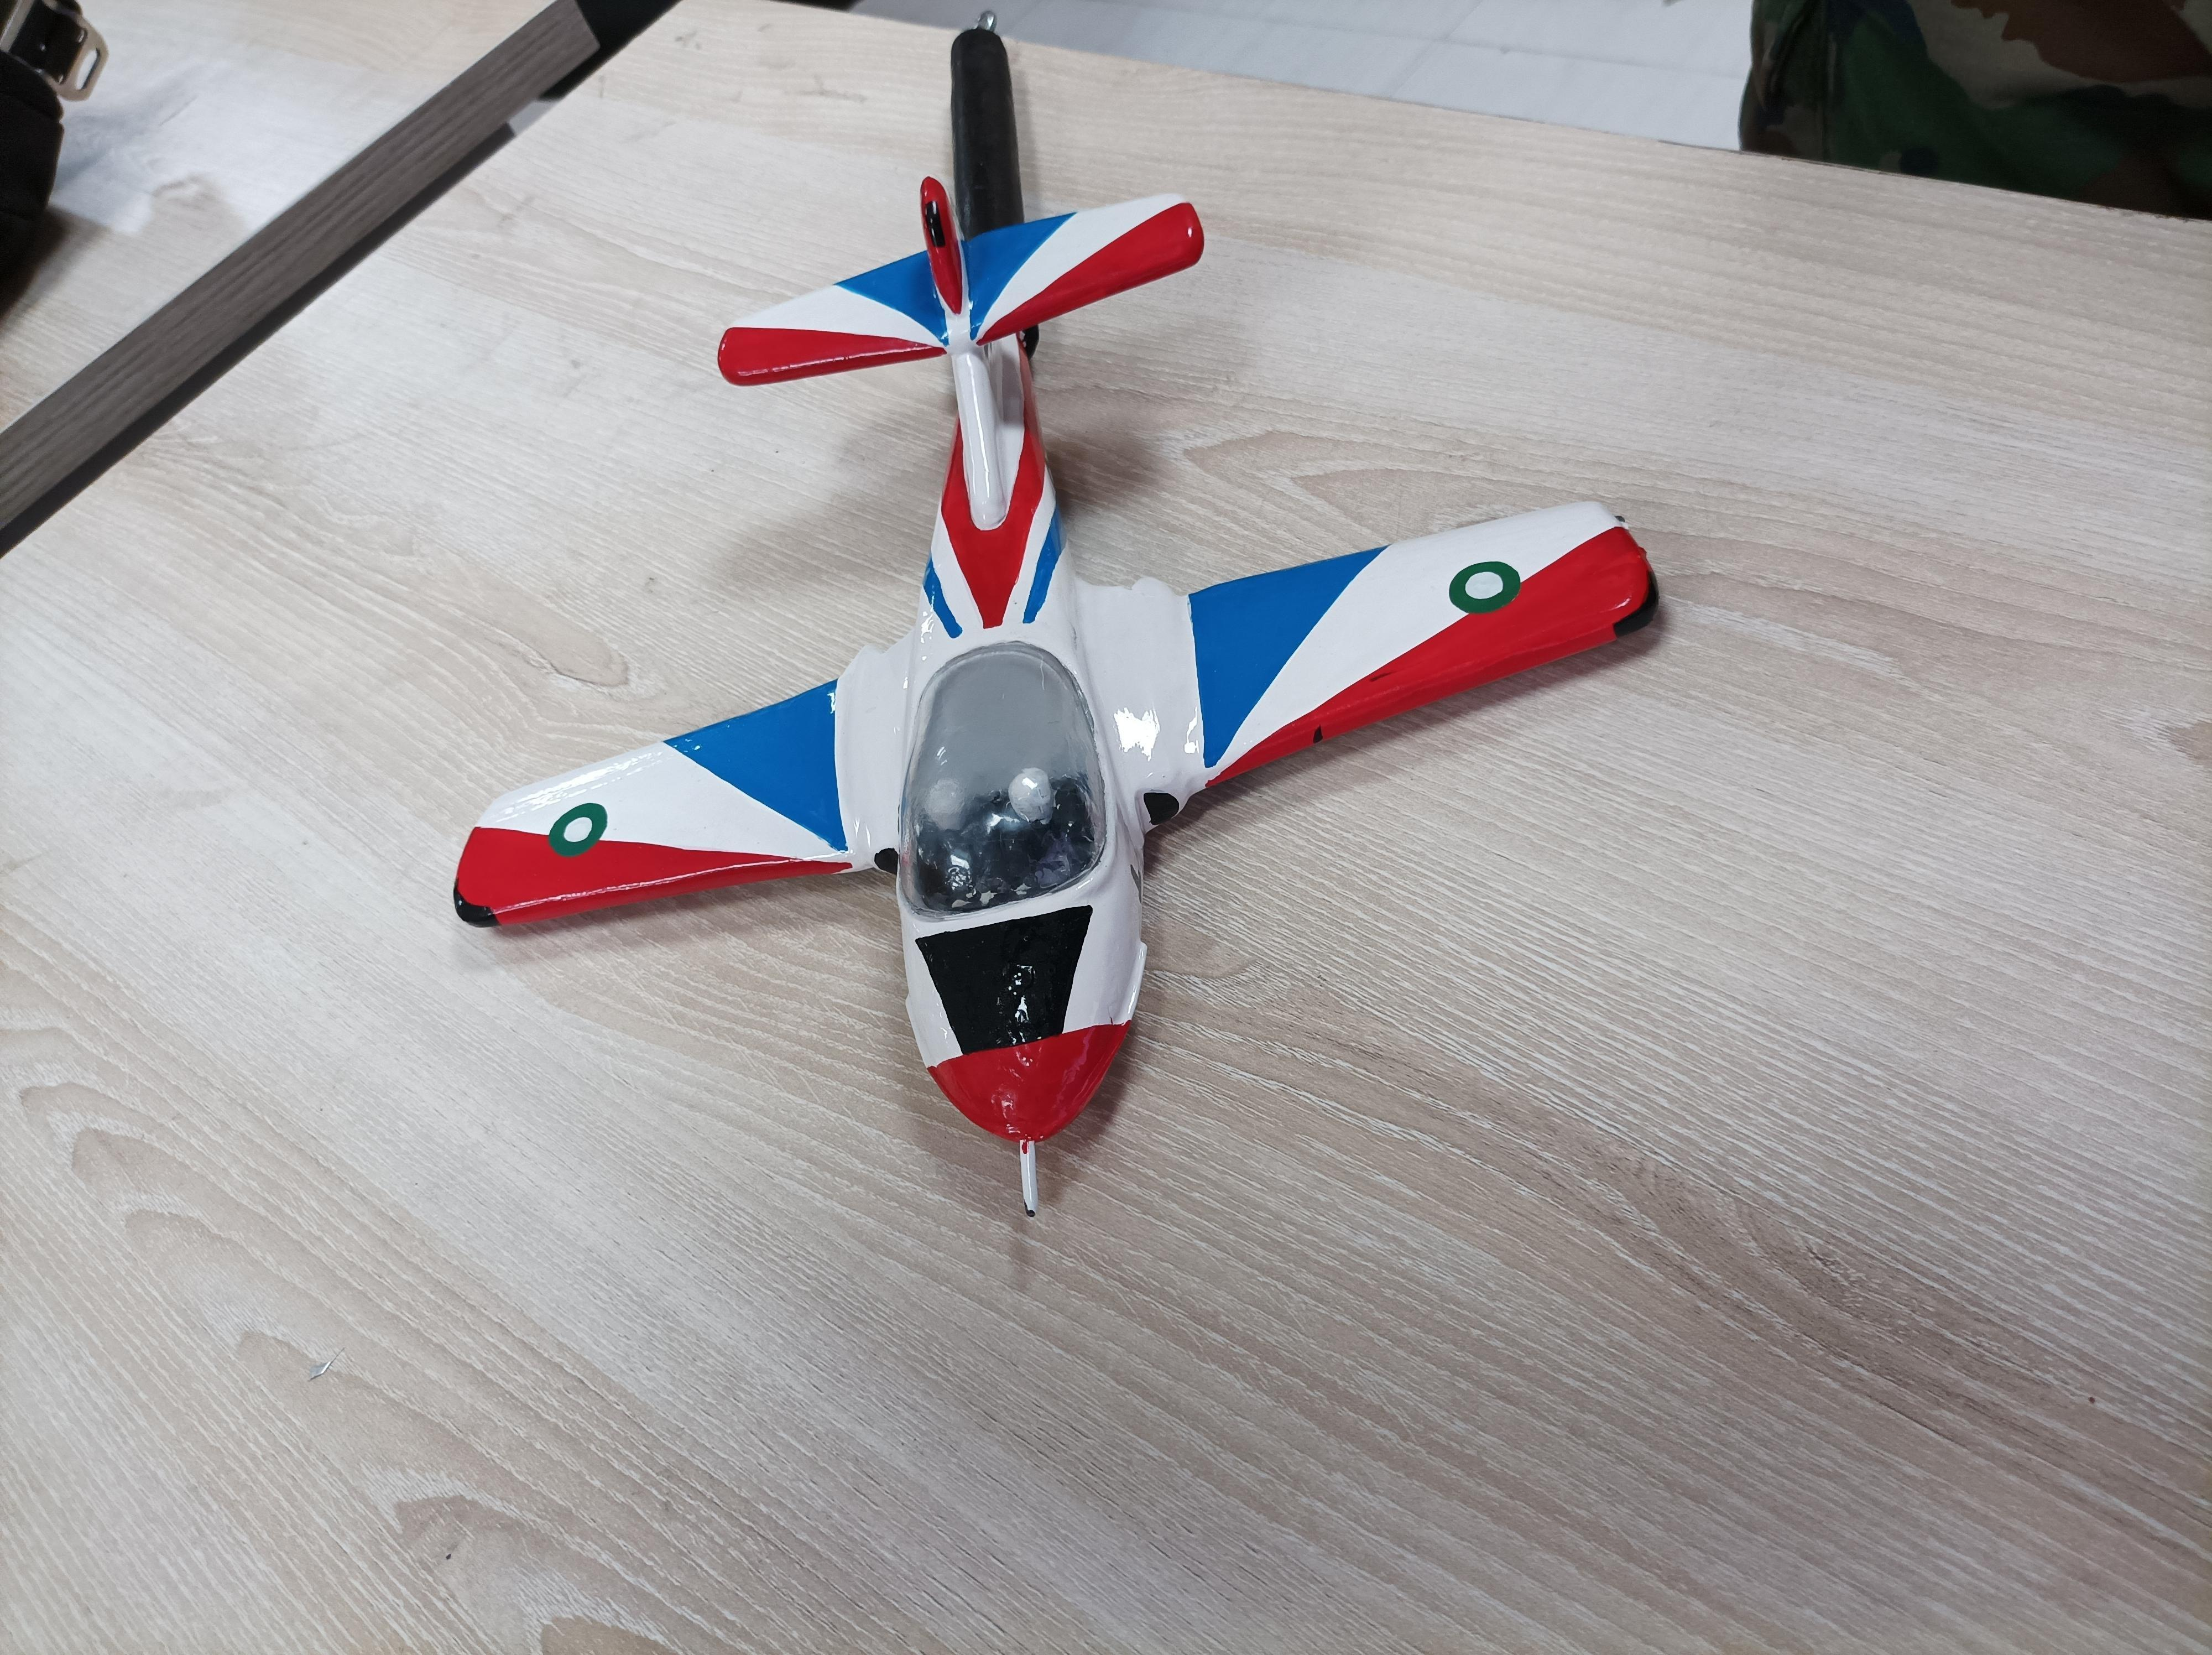Airplane: (429, 158, 1684, 1165)
